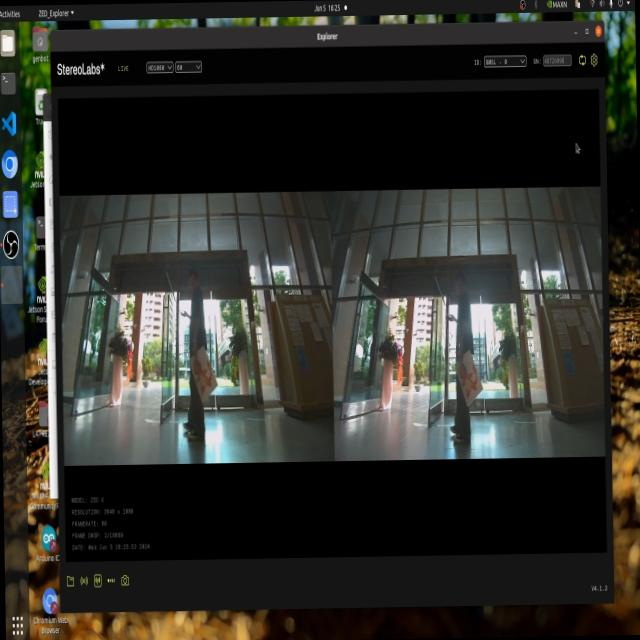red: (189, 346, 210, 392), (454, 356, 478, 394)
